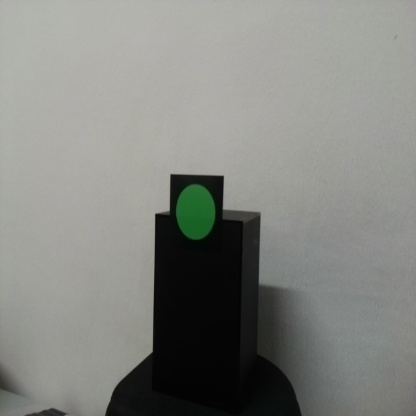id_5: (171, 176, 224, 252)
